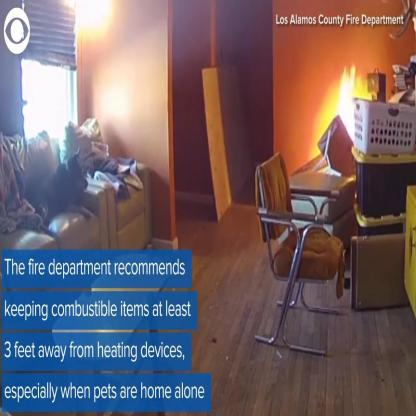fire: (338, 63, 371, 146)
